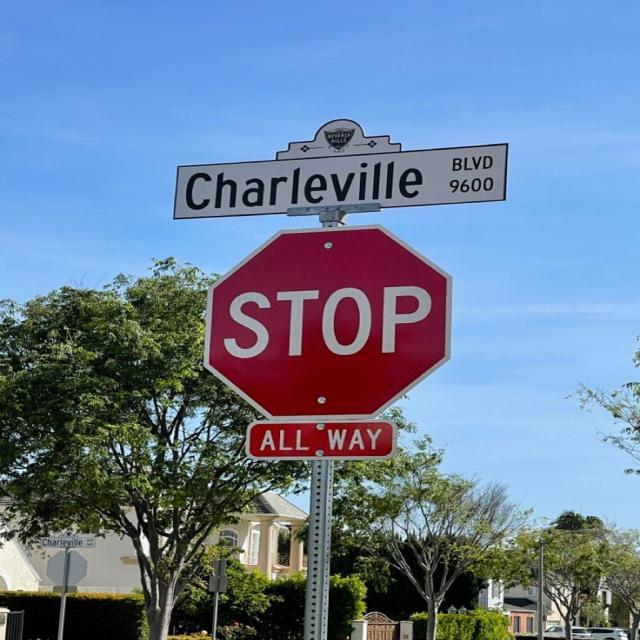stop: (201, 223, 453, 420)
